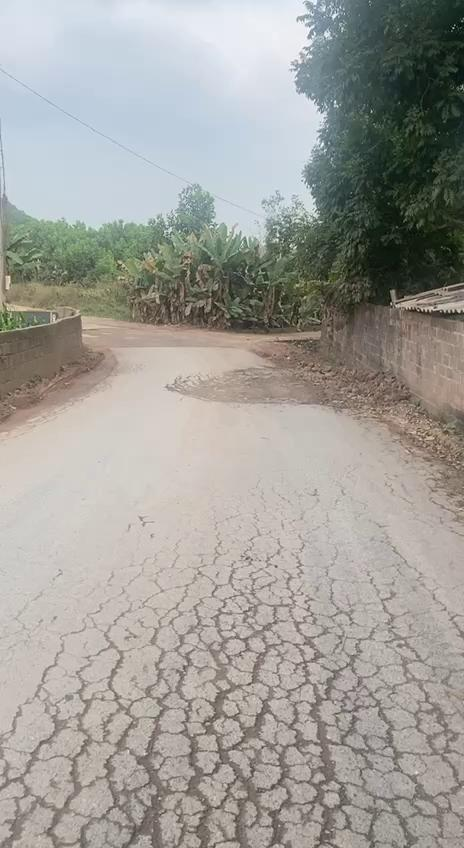pothole: (164, 358, 331, 413)
